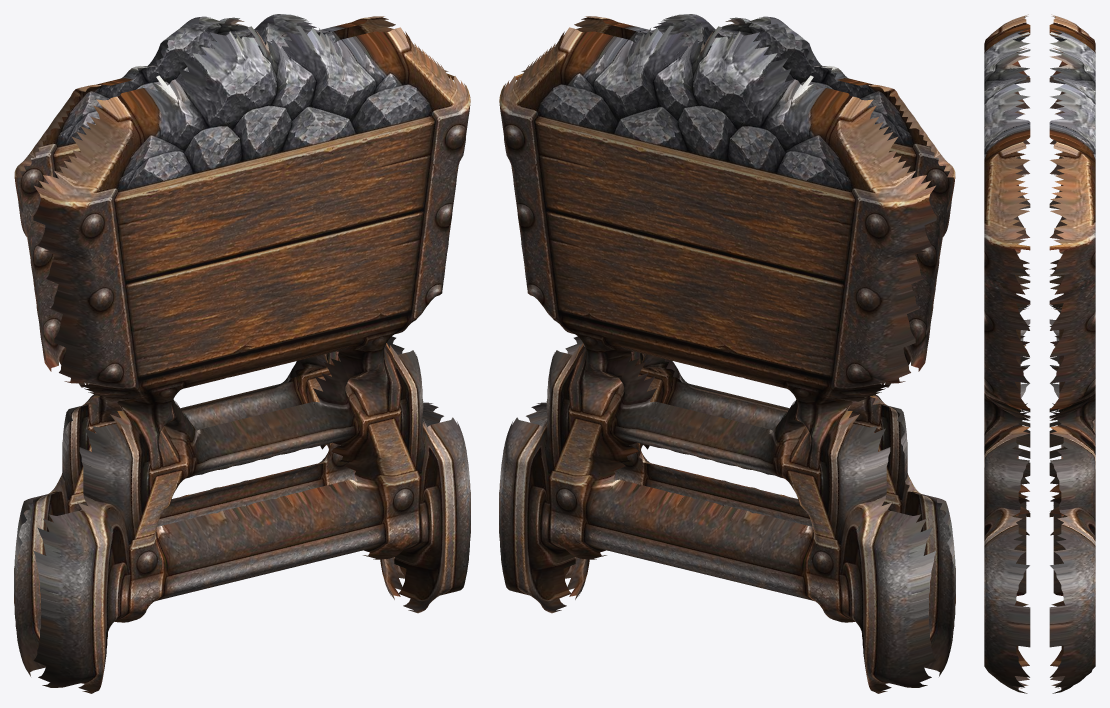
The model's file is v4-mine-chamber-scatter-ore-cart.glb.
The picture shows the model from 3 angles, left to right: view 1: azimuth 30°, elevation 25°; view 2: azimuth 150°, elevation 25°; view 3: azimuth 270°, elevation 25°; orthographic projection. The views are drawn at different scales.
Parts seen in each view (by area): view 1: v4-mine-chamber-scatter-ore-cart; view 2: v4-mine-chamber-scatter-ore-cart; view 3: v4-mine-chamber-scatter-ore-cart.
Boxes of the visible parts, left/top/right/bottom form: v4-mine-chamber-scatter-ore-cart: left=14, top=14, right=470, bottom=693; v4-mine-chamber-scatter-ore-cart: left=499, top=14, right=955, bottom=693; v4-mine-chamber-scatter-ore-cart: left=984, top=14, right=1095, bottom=693.
Bounding box in the file's own units: 0.7132 × 0.9861 × 0.1745.
1 material, 1 textured.
